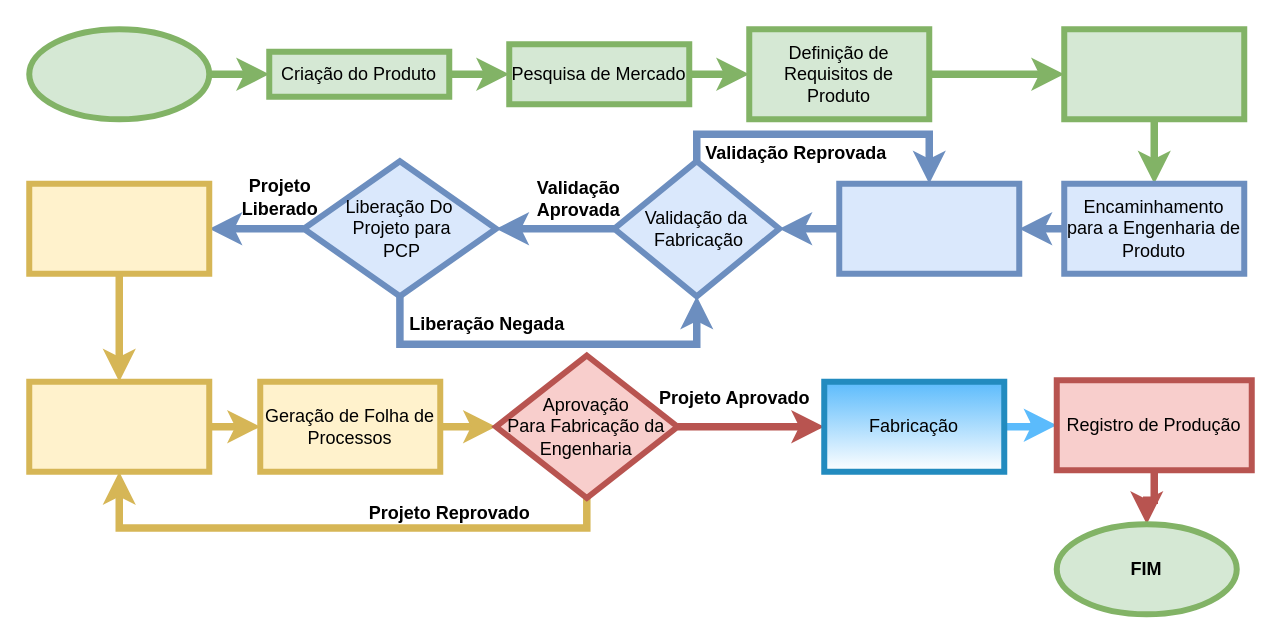
The diagram is 1280 pixels wide and 642 high, and some of its shapes have lost their labels. The shapes that lost their labels are listed below. From the top down, each one's centre as x and y in pixels, then its label:
point (119, 74): INÍCIO
point (1153, 74): Criação do Documento (Folha de Requisitos de Produto)
point (119, 228): Definir Etapa de Fabricação
point (929, 228): Desenvolvimento do Projeto Mecânico 3D
point (119, 426): Definir Viabilidade de Fabricação
